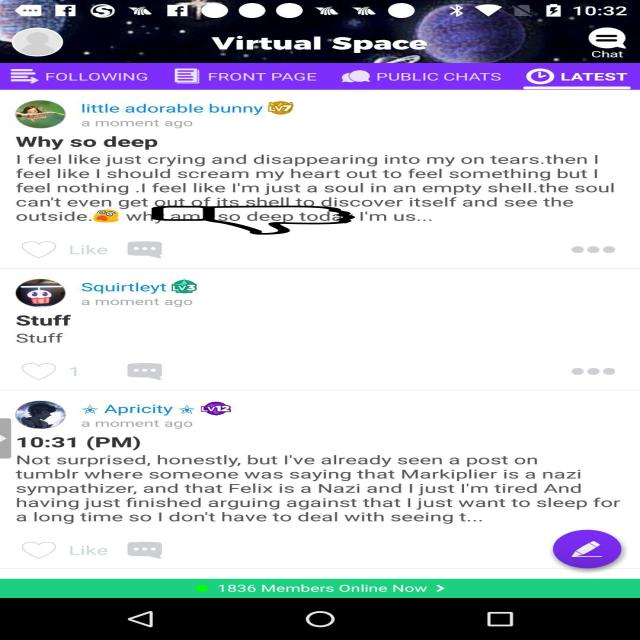obstruction: (149, 206, 358, 234)
